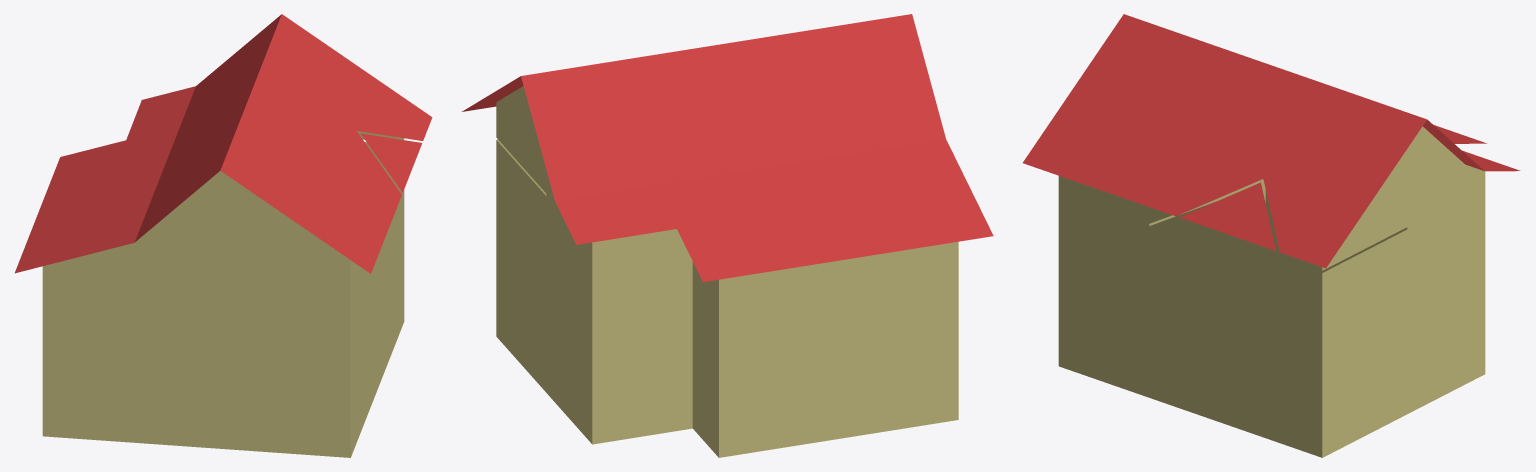
3 renders of one model, left to right at view 1: azimuth 30°, elevation 25°; view 2: azimuth 150°, elevation 25°; view 3: azimuth 270°, elevation 25°, orthographic. The views are drawn at different scales.
Bounding box in the file's own units: 21.11 × 19.47 × 12.99.
